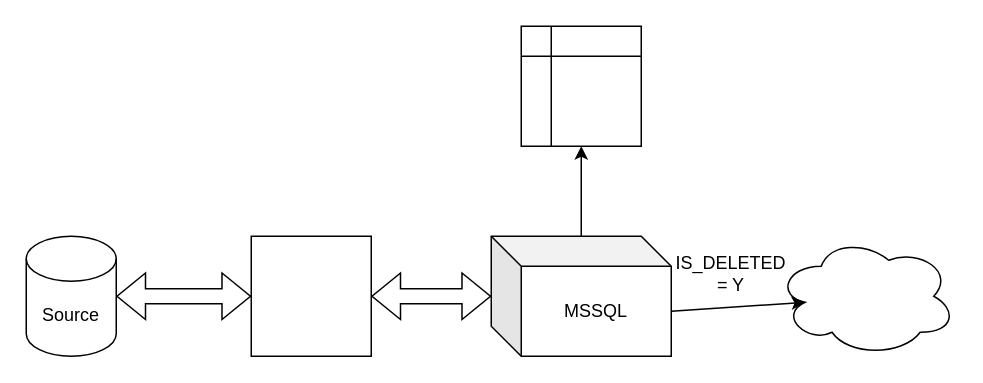
This 983x383 diagram has some shape labels left out. Each missing label, with the centre of its shape:
Azure: the point at 865,295
SLT ABAP pROG: the point at 310,295
